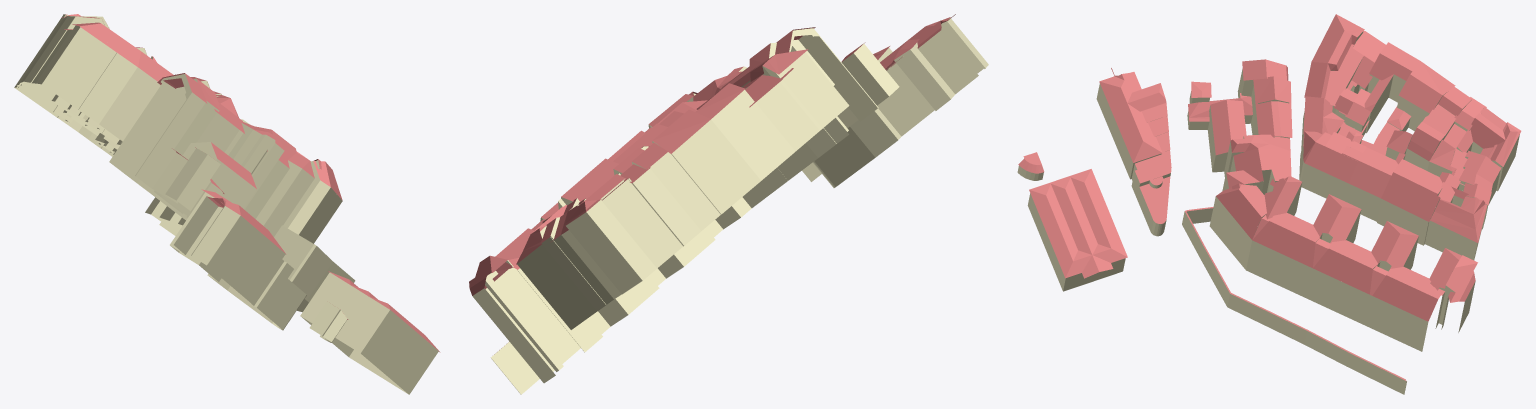
File: tile_052.glb
3 renders of one model, left to right at view 1: azimuth 30°, elevation 25°; view 2: azimuth 150°, elevation 25°; view 3: azimuth 270°, elevation 25°, orthographic. The views are drawn at different scales.
Parts seen in each view (by area): view 1: Batched_Building_ID_7B272E68-BFCA-4727-AF3C-81C4E280E067, Batched_Building_ID_01EB4030-EFD2-41B7-AE31-21731E6C773D; view 2: Batched_Building_ID_7B272E68-BFCA-4727-AF3C-81C4E280E067, Batched_Building_ID_01EB4030-EFD2-41B7-AE31-21731E6C773D; view 3: Batched_Building_ID_01EB4030-EFD2-41B7-AE31-21731E6C773D, Batched_Building_ID_7B272E68-BFCA-4727-AF3C-81C4E280E067.
Part boxes in pixels (x1=…): Batched_Building_ID_7B272E68-BFCA-4727-AF3C-81C4E280E067: x1=14, y1=14, x2=438, y2=394; Batched_Building_ID_01EB4030-EFD2-41B7-AE31-21731E6C773D: x1=61, y1=14, x2=440, y2=352; Batched_Building_ID_7B272E68-BFCA-4727-AF3C-81C4E280E067: x1=472, y1=18, x2=988, y2=394; Batched_Building_ID_01EB4030-EFD2-41B7-AE31-21731E6C773D: x1=469, y1=14, x2=955, y2=354; Batched_Building_ID_01EB4030-EFD2-41B7-AE31-21731E6C773D: x1=1018, y1=14, x2=1521, y2=380; Batched_Building_ID_7B272E68-BFCA-4727-AF3C-81C4E280E067: x1=1017, y1=31, x2=1519, y2=394.
Size of the model in its own units: 99.01 by 113 by 179.
